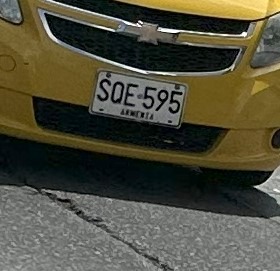number plate: (89, 71, 185, 127)
